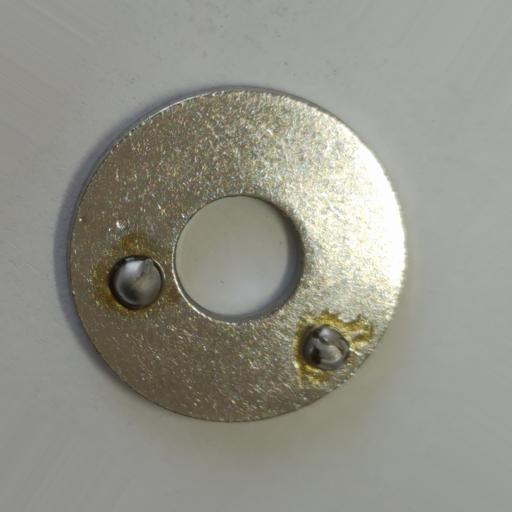excess_material: (107, 253, 167, 311), (300, 323, 353, 371)
